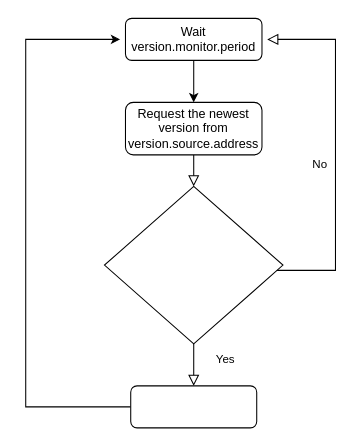
Some shapes in this 364 by 446 pixel diagram are drawn without their labels. The shapes that lost their labels are listed below. From the top down, each one's box as (x1, y1, x2, y2) in pixels, then its label:
(103, 185, 283, 344): Does the newest version differ from current
(130, 385, 257, 428): Execute on_change_cmds
